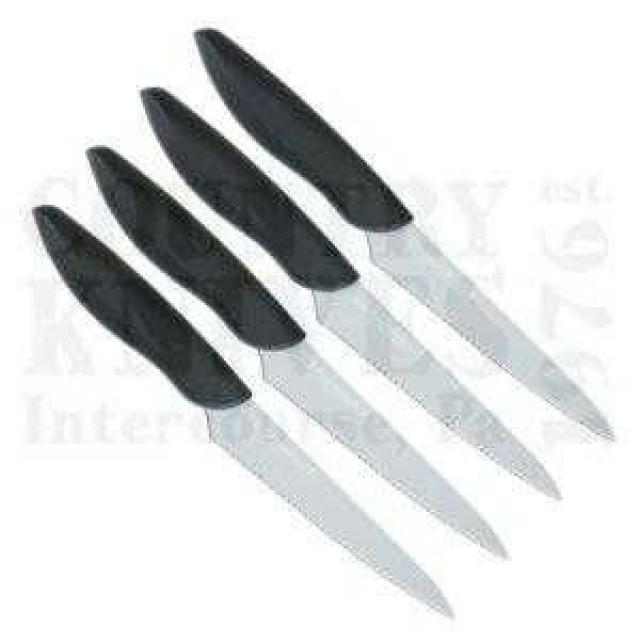Knife: (28, 23, 627, 623)
